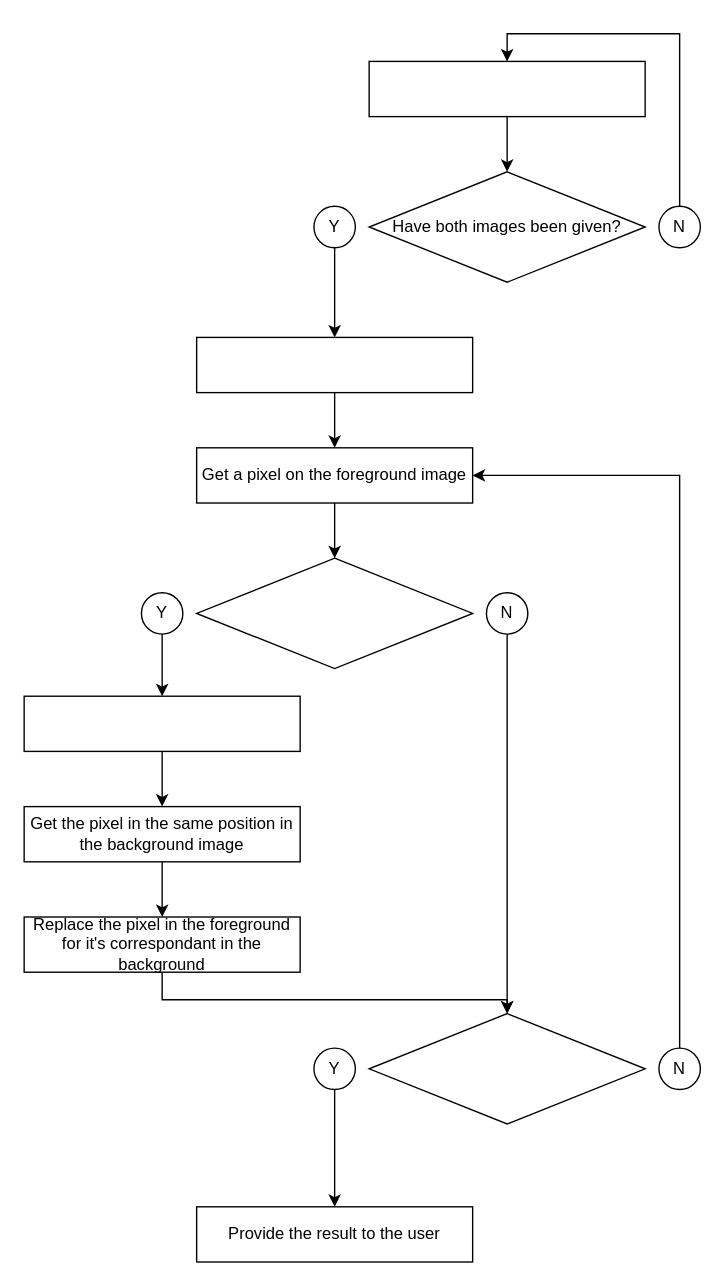
The diagram is 725 pixels wide and 1286 high, and some of its shapes have lost their labels. The shapes that lost their labels are listed below. From the top down, each one's box as (x1, y1, x2, y2) in pixels, then its label:
(368, 60, 645, 117): Get foreground and background images
(195, 336, 473, 393): Open the foreground and the background images
(195, 557, 473, 669): Is this pixel green?
(23, 695, 300, 751): Get the position of the pixel
(368, 1012, 645, 1124): Is it the last pixel
